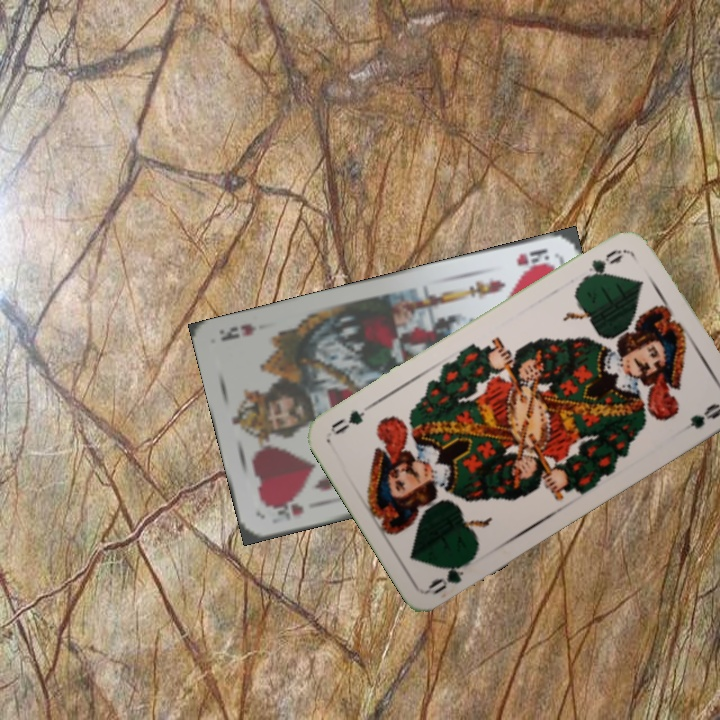GO: (424, 551, 477, 598), (577, 245, 628, 285)
HK: (512, 244, 558, 274), (261, 496, 306, 524)
